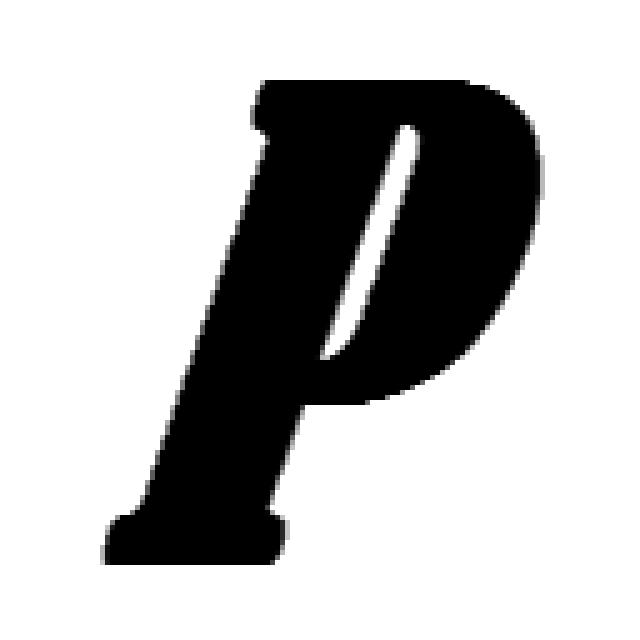P: (100, 80, 545, 570)
